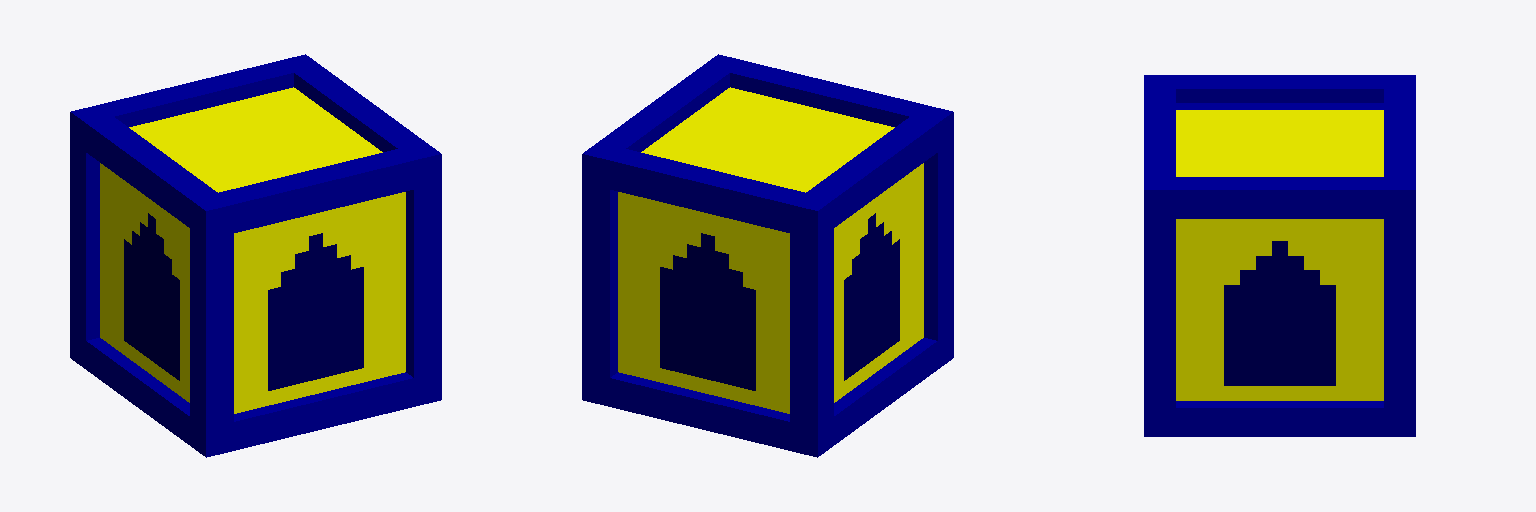
3 renders of one model, left to right at view 1: azimuth 30°, elevation 25°; view 2: azimuth 150°, elevation 25°; view 3: azimuth 270°, elevation 25°, orthographic.
Size of the model in its own units: 17 by 17 by 17.
Materials: 1 (1 with a texture image).